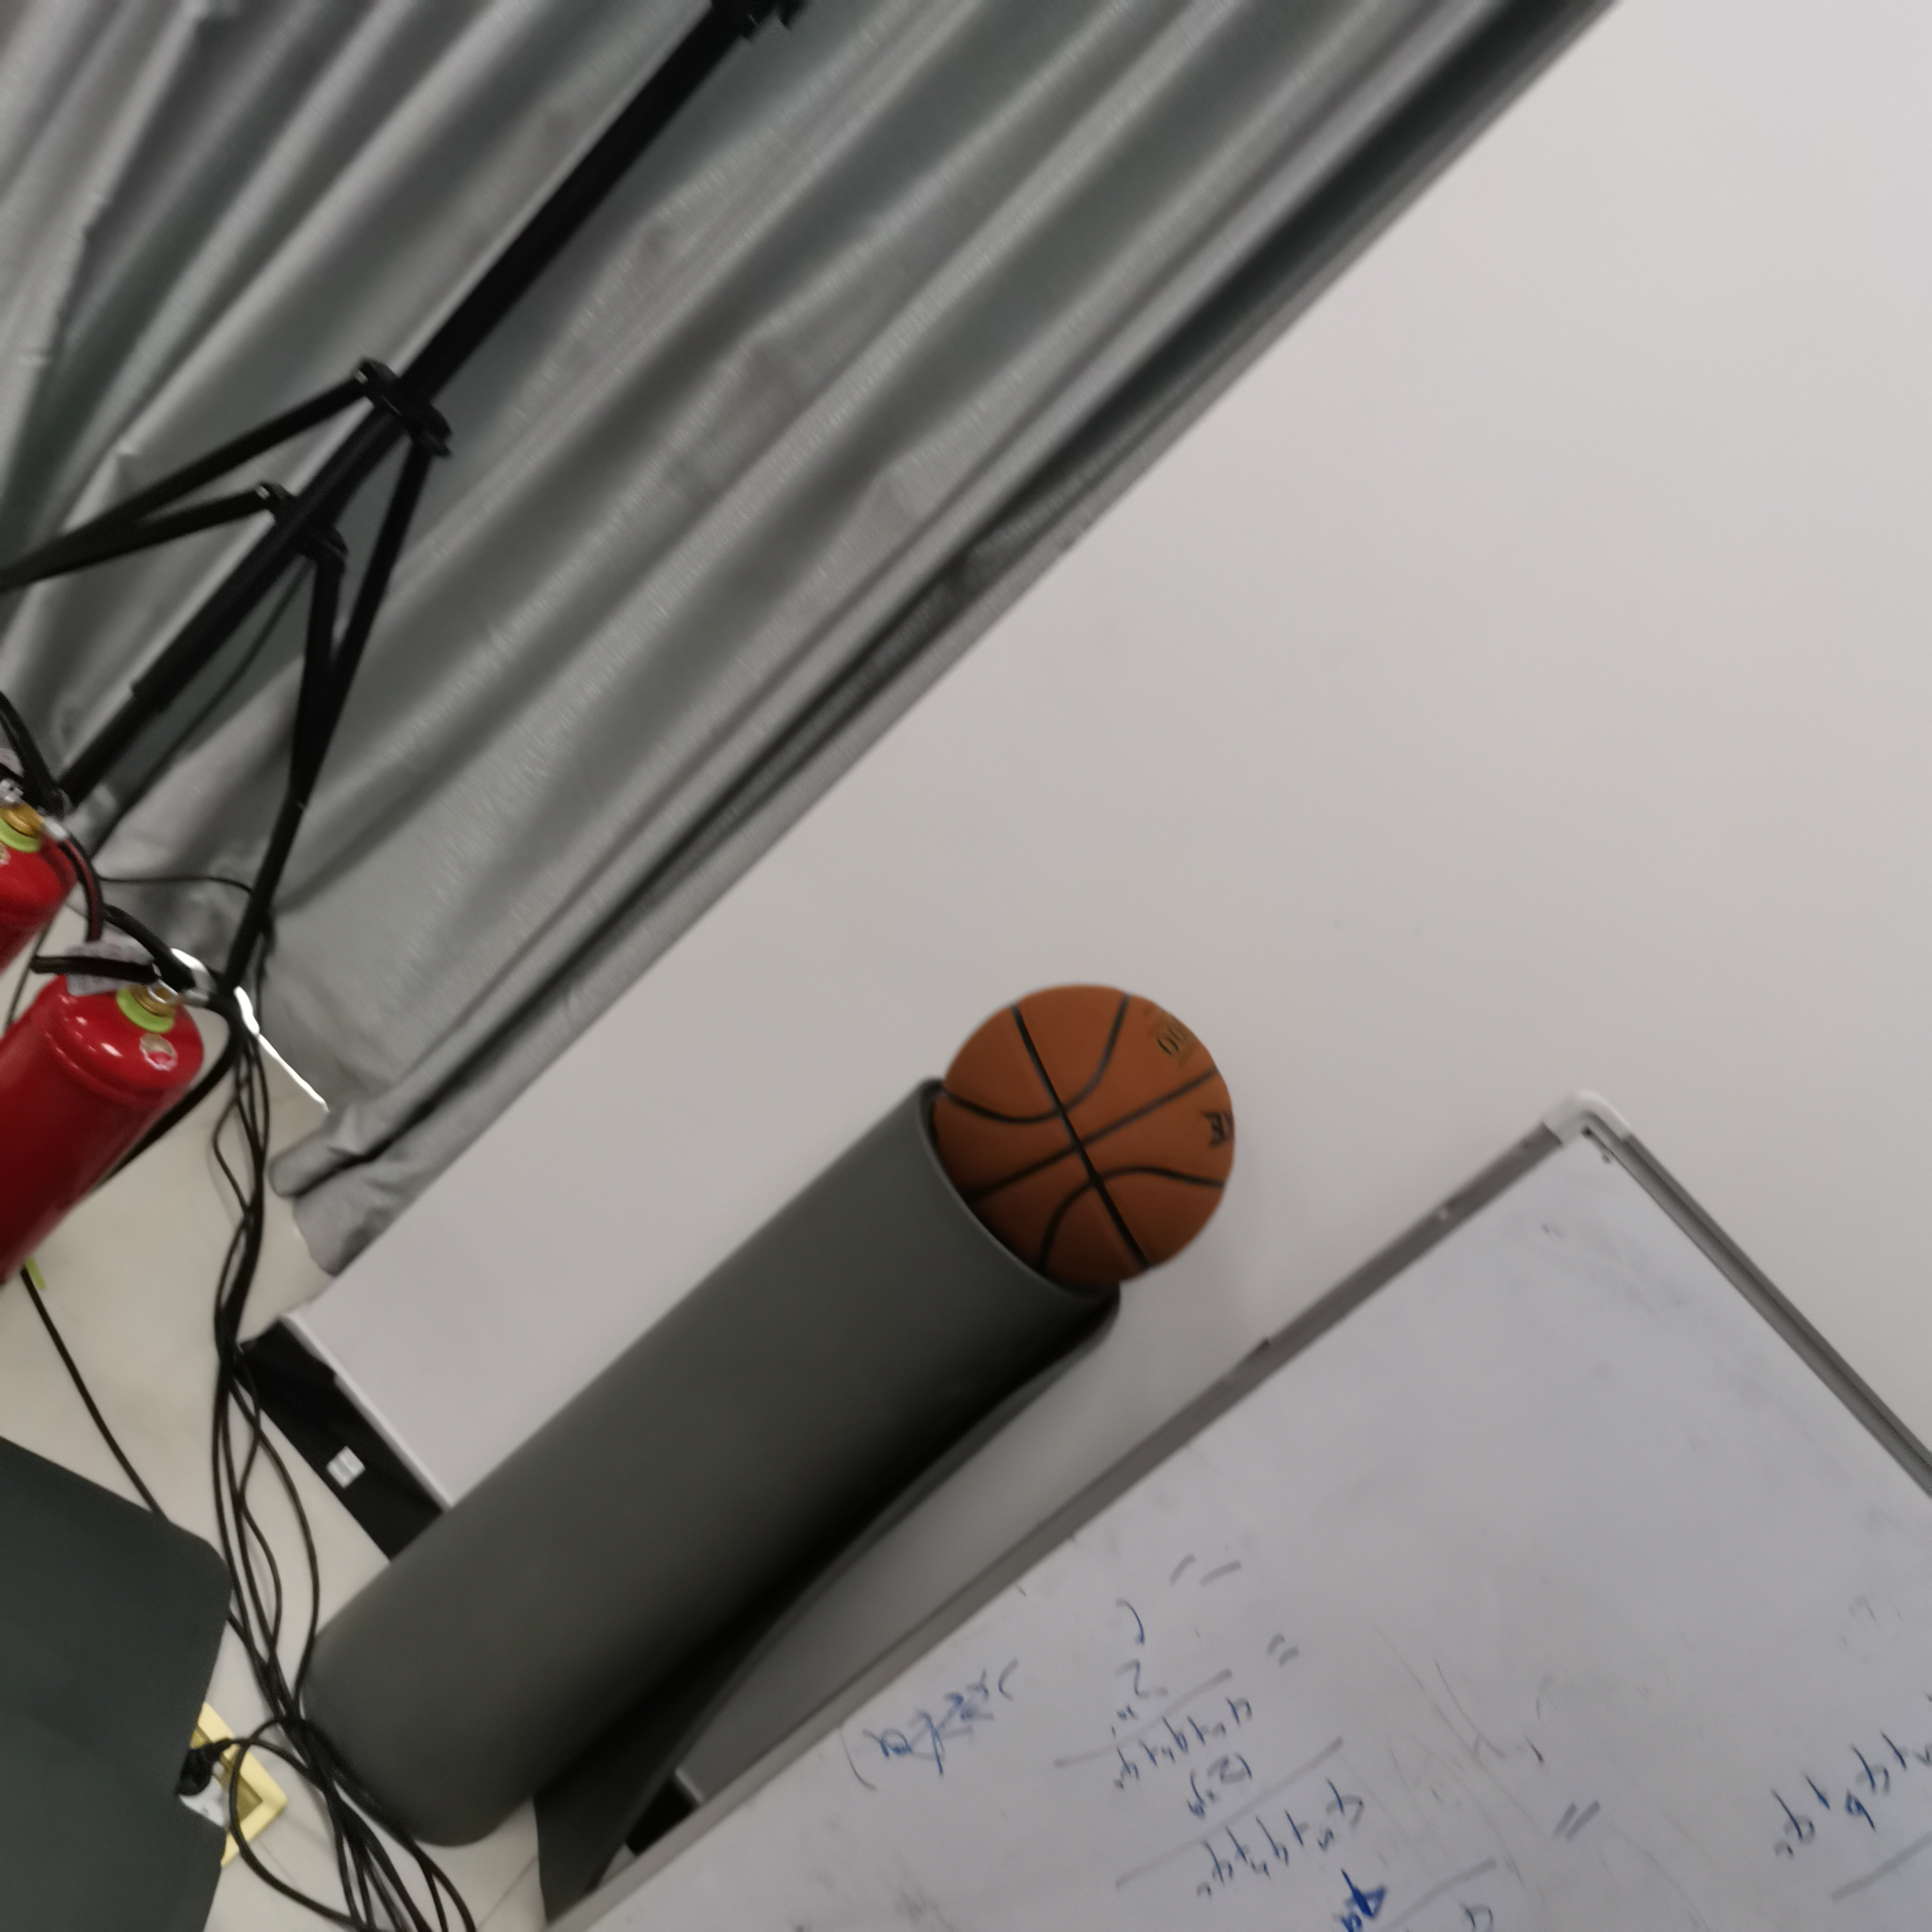basketball: (936, 985, 1238, 1284)
